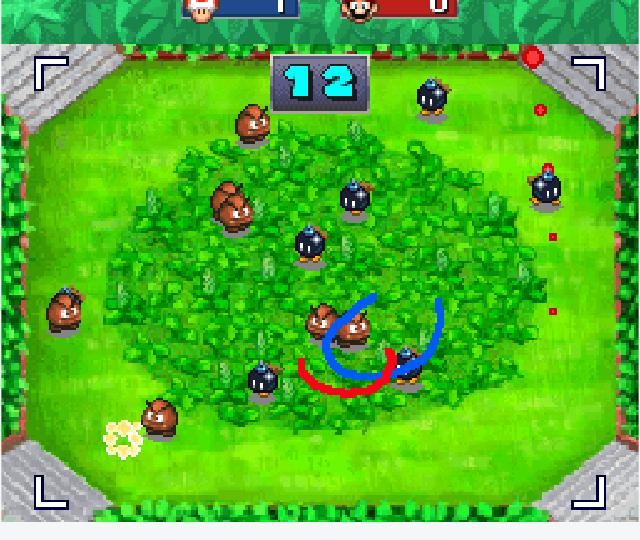bomb: (524, 165, 566, 211), (383, 345, 429, 385), (413, 75, 453, 120), (293, 225, 333, 267), (335, 178, 376, 218), (243, 360, 285, 398)
goomba: (137, 394, 183, 442), (331, 308, 376, 350), (231, 102, 272, 146), (43, 292, 84, 335), (217, 193, 257, 237), (303, 298, 338, 344), (207, 180, 245, 211)
